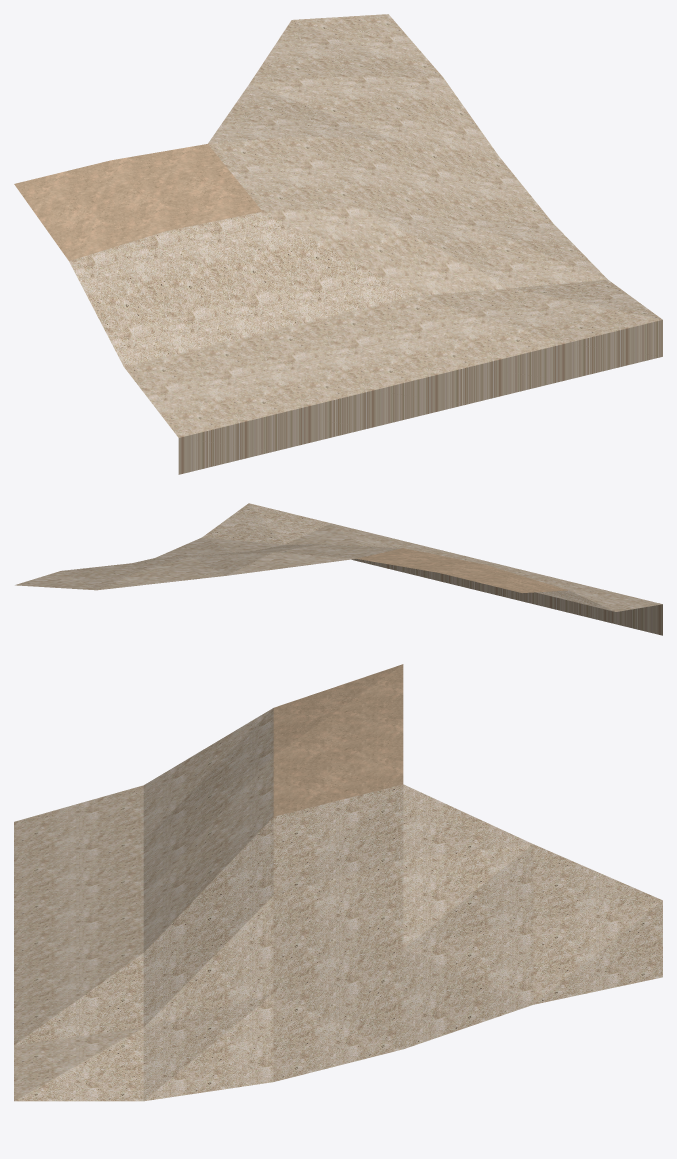
The model's file is sbcs_seabit2_new.obj.
3 views of the same model, one above another, from view 1: azimuth 30°, elevation 25°; view 2: azimuth 150°, elevation 25°; view 3: azimuth 270°, elevation 25° (orthographic). The views are drawn at different scales.
Parts seen in each view (by area): view 1: sbcs_seabit2_new; view 2: sbcs_seabit2_new; view 3: sbcs_seabit2_new.
Boxes of the visible parts, x1,y1,x2,y2 form: sbcs_seabit2_new: (14, 14, 662, 474); sbcs_seabit2_new: (15, 503, 662, 635); sbcs_seabit2_new: (14, 664, 662, 1101).
Size of the model in its own units: 229 by 76.92 by 225.
